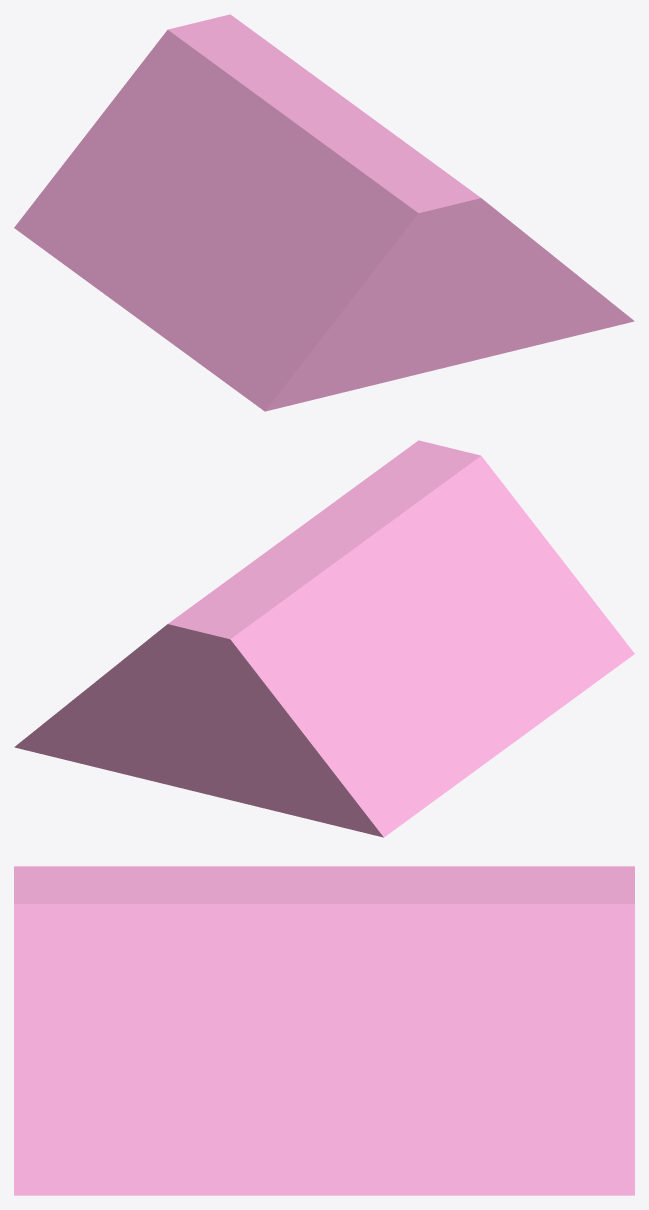
The model's file is castle walls 21.fbx.
The picture shows the model from 3 angles, top to bottom: view 1: azimuth 30°, elevation 25°; view 2: azimuth 150°, elevation 25°; view 3: azimuth 270°, elevation 25°; orthographic projection. The views are drawn at different scales.
Parts seen in each view (by area): view 1: Plane.001; view 2: Plane.001; view 3: Plane.001.
Boxes of the visible parts, x1=… form: Plane.001: x1=14, y1=14, x2=634, y2=411; Plane.001: x1=14, y1=440, x2=634, y2=837; Plane.001: x1=14, y1=866, x2=634, y2=1195.
Size of the model in its own units: 511 by 212 by 600.
